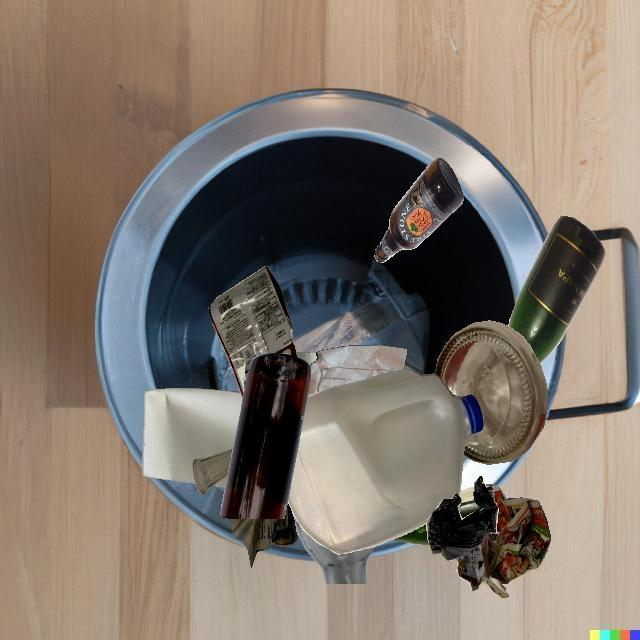glass: (435, 320, 548, 464), (220, 354, 311, 519), (508, 215, 605, 364), (374, 158, 464, 263), (294, 515, 375, 584), (407, 495, 462, 534), (192, 448, 233, 495), (388, 524, 429, 545)
paper: (457, 485, 551, 599), (142, 388, 243, 483), (308, 345, 407, 396), (228, 501, 297, 568)
plastic: (288, 368, 484, 555), (208, 266, 297, 400), (427, 476, 498, 561)
